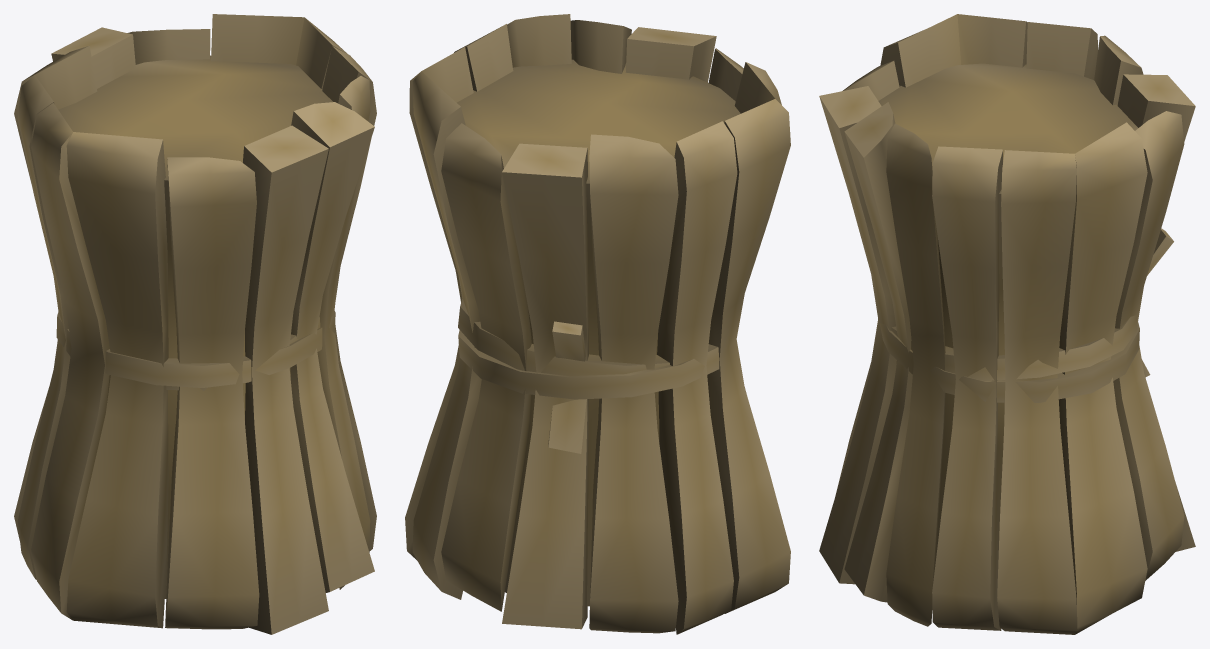
File: prop_hay_sheaf.glb
The picture shows the model from 3 angles, left to right: view 1: azimuth 30°, elevation 25°; view 2: azimuth 150°, elevation 25°; view 3: azimuth 270°, elevation 25°; orthographic projection. The views are drawn at different scales.
Parts seen in each view (by area): view 1: refined; view 2: refined; view 3: refined.
Part boxes in pixels (x1,y1,x2,y2): refined: (14,14,376,634); refined: (405,14,790,634); refined: (819,14,1195,634).
Bounding box in the file's own units: 0.121 × 0.1785 × 0.1249.
